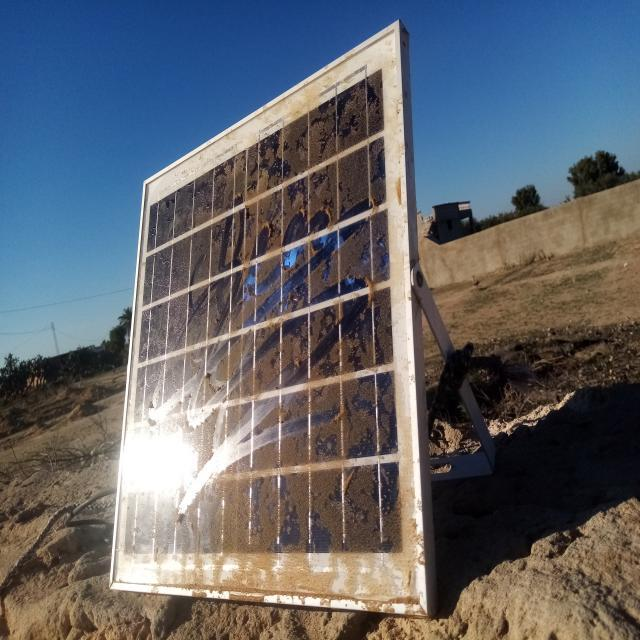faulty: (109, 22, 425, 611)
